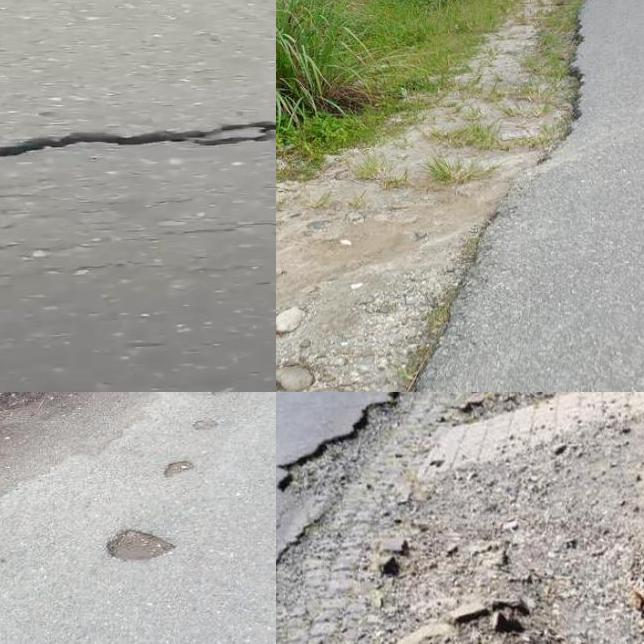Lubang: (110, 525, 170, 562)
Melintang: (0, 104, 276, 173)
Pinggir: (367, 0, 616, 392), (276, 392, 451, 644)
